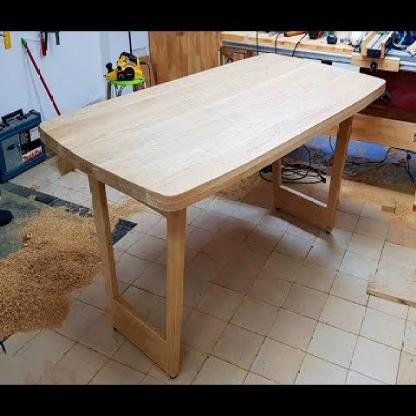table: (35, 49, 388, 378)
